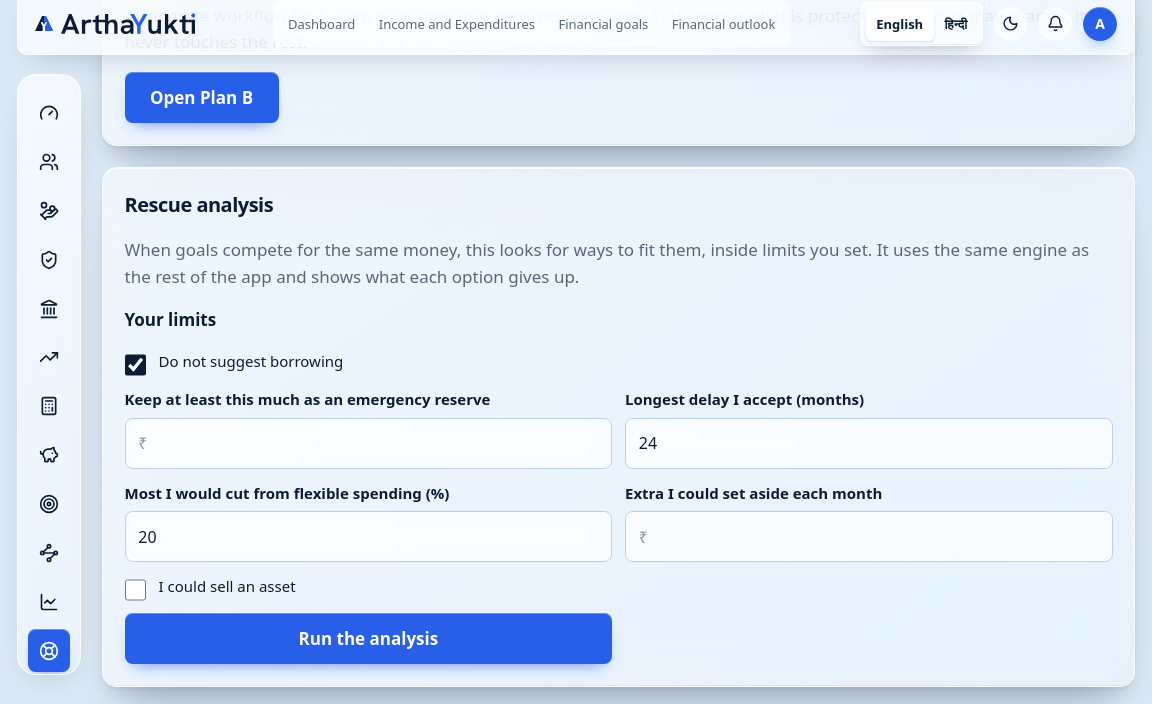
Scenario: rescue analysis › sends the plan and the limits, and shows the engine’s options without applying any
The image size is (1152, 704).
(page scrolled)
Click the button "Run the analysis" at (368, 639), box [124,614,612,664]
(page scrolled)
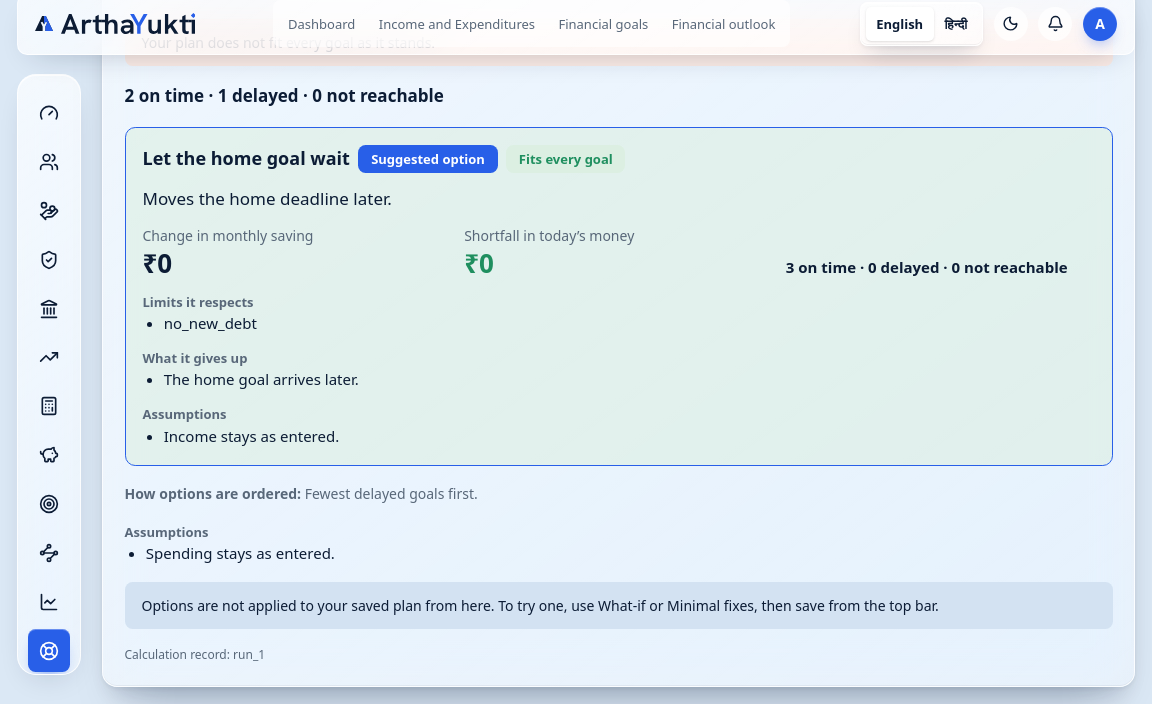
Now the heading "Let the home goal wait" is shown, box [142,145,350,173]
Now the text "Suggested option" is shown, box [358,145,498,173]
Now the list item "The home goal arrives later." is shown, box [164,370,359,390]
